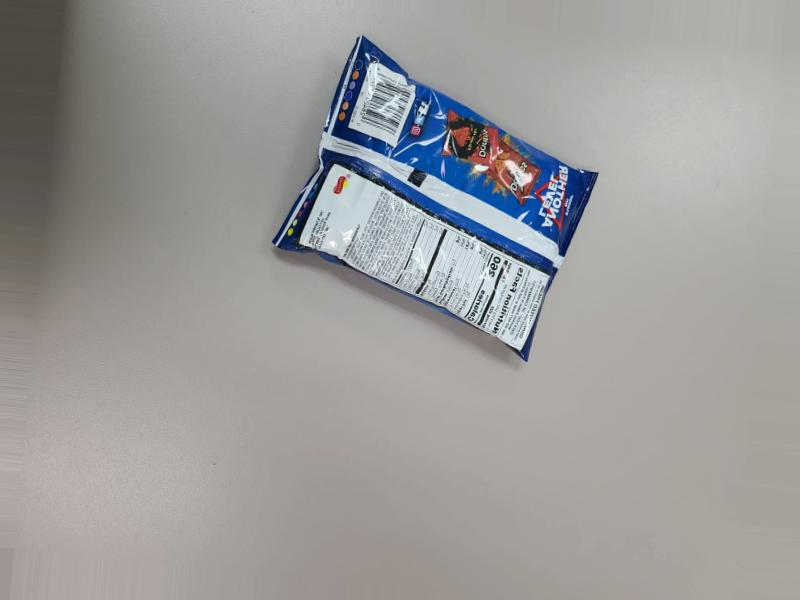doritos: (259, 36, 584, 371)
